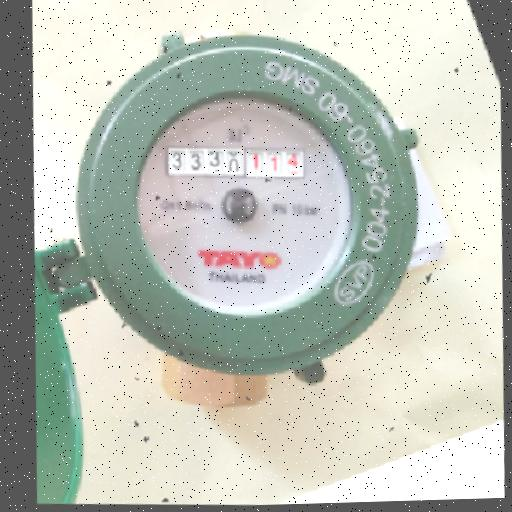0: (226, 151, 241, 172)
1: (266, 152, 282, 173), (247, 152, 262, 172)
3: (168, 150, 184, 172), (187, 151, 203, 171), (205, 151, 221, 171)
4: (284, 153, 300, 174)
border_water_meter_number: (164, 141, 305, 183)
